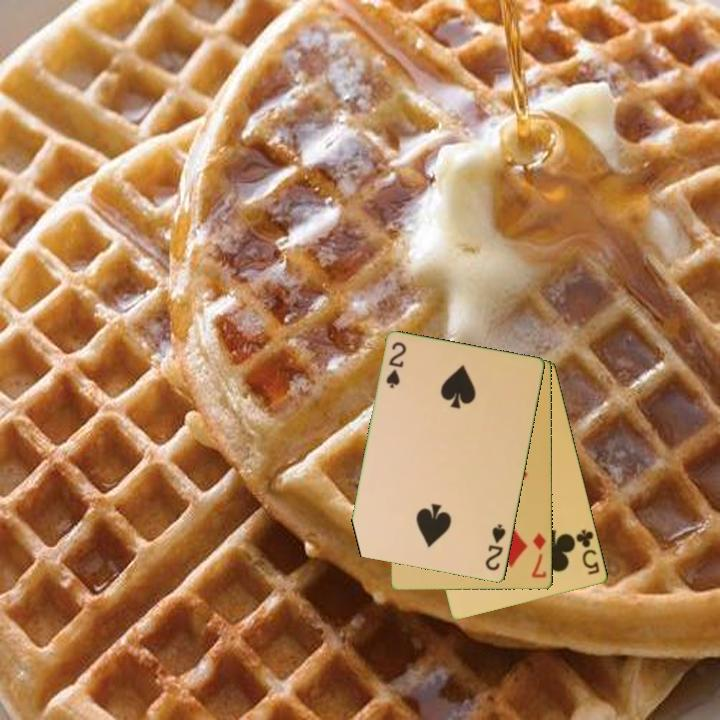2s: (482, 521, 509, 574), (383, 339, 409, 391)
5c: (573, 526, 603, 578)
7d: (529, 530, 550, 581)
